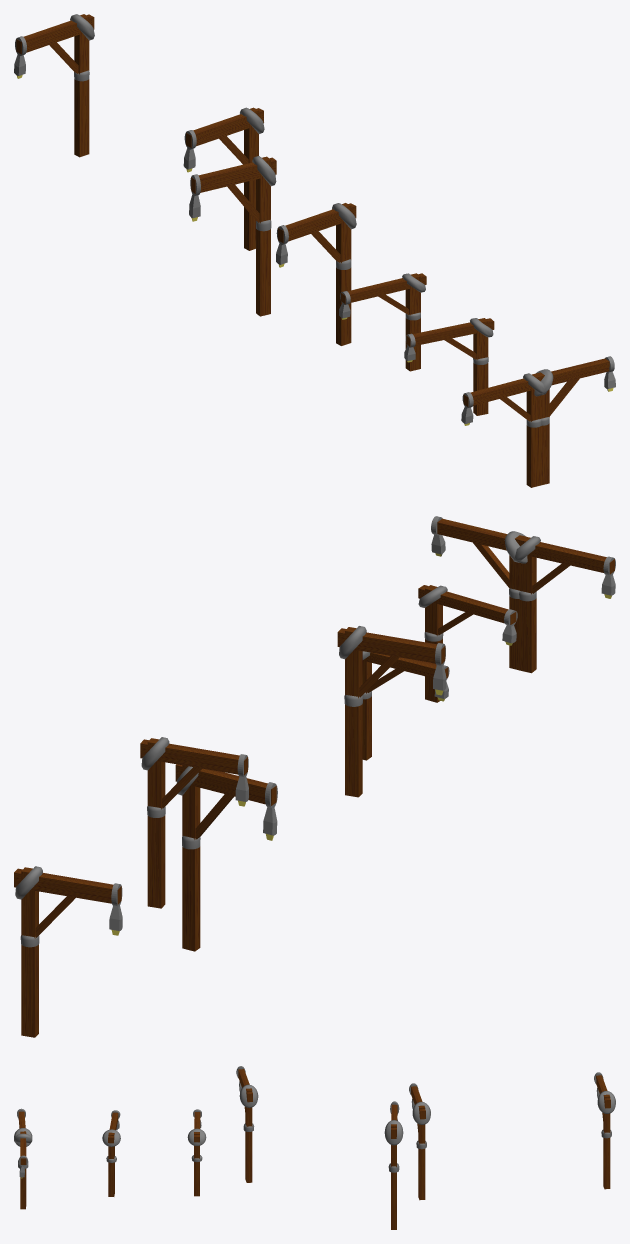
File: suga.fbx
The picture shows the model from 3 angles, top to bottom: view 1: azimuth 30°, elevation 25°; view 2: azimuth 150°, elevation 25°; view 3: azimuth 270°, elevation 25°; orthographic projection. The views are drawn at different scales.
Visible parts, largest first — view 1: poste.002, poste.003, poste.006, poste.005, poste.004, poste.001, poste; view 2: poste.002, poste.004, poste.003, poste.006, poste.005, poste.001, poste; view 3: poste.004, poste.006, poste.005, poste.003, poste.002, poste.001, poste.
Boxes of the visible parts, x1,y1,x2,y2 form: poste.002: (461, 356, 615, 487); poste.003: (189, 156, 276, 316); poste.006: (14, 14, 94, 157); poste.005: (276, 203, 356, 345); poste.004: (183, 107, 264, 250); poste.001: (404, 318, 494, 415); poste: (339, 273, 426, 371); poste.002: (431, 516, 615, 673); poste.004: (140, 737, 248, 908); poste.003: (175, 764, 277, 951); poste.006: (14, 866, 122, 1037); poste.005: (337, 626, 446, 797); poste.001: (418, 585, 517, 702); poste: (362, 651, 449, 760); poste.004: (409, 1083, 430, 1200); poste.006: (594, 1072, 615, 1189); poste.005: (236, 1066, 258, 1182); poste.003: (384, 1101, 403, 1229); poste.002: (14, 1108, 32, 1209); poste.001: (102, 1110, 120, 1196); poste: (187, 1109, 206, 1196).
Bounding box in the file's own units: 41.16 × 44.79 × 185.
